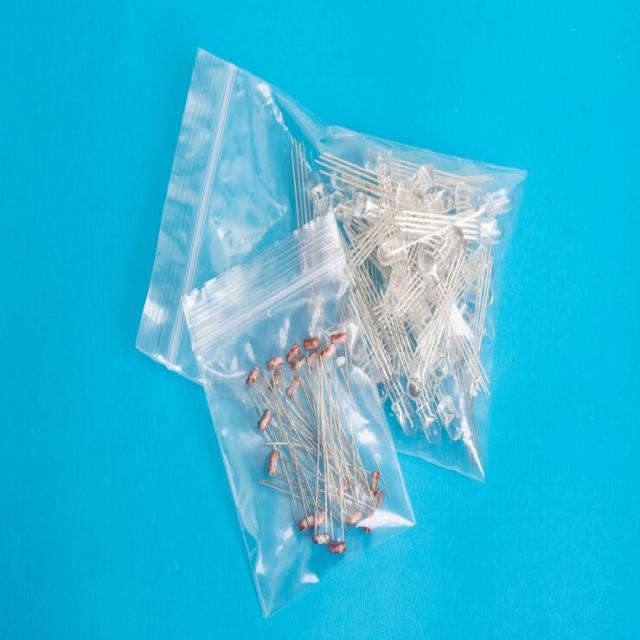plastic_bag: (116, 21, 560, 491), (166, 216, 433, 623)
